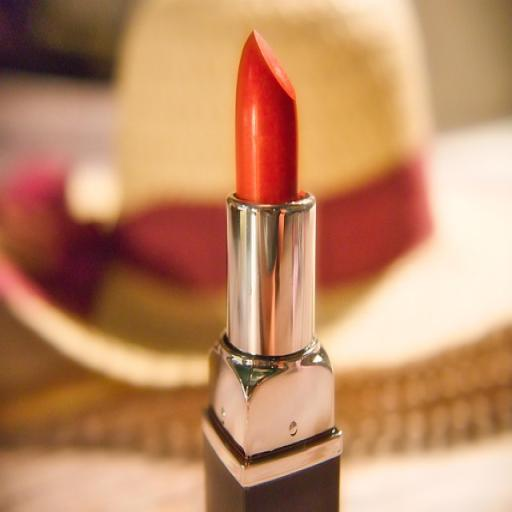lipstick: (204, 32, 341, 511)
